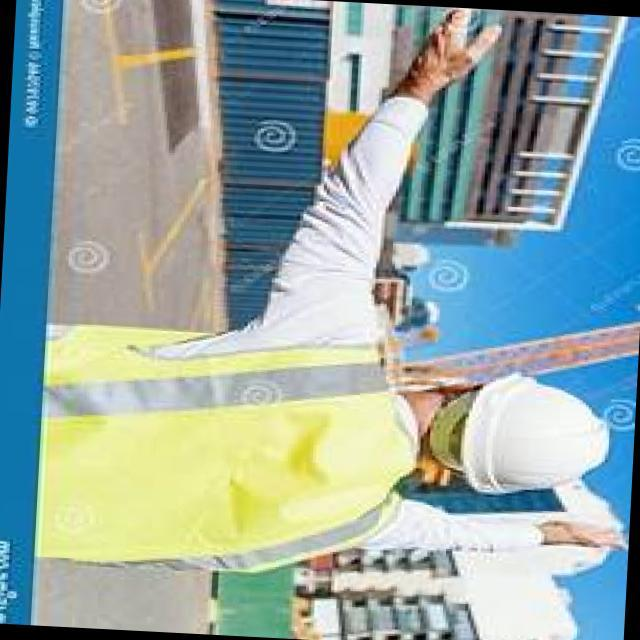not-gloved: (394, 4, 506, 106), (540, 512, 630, 553)
